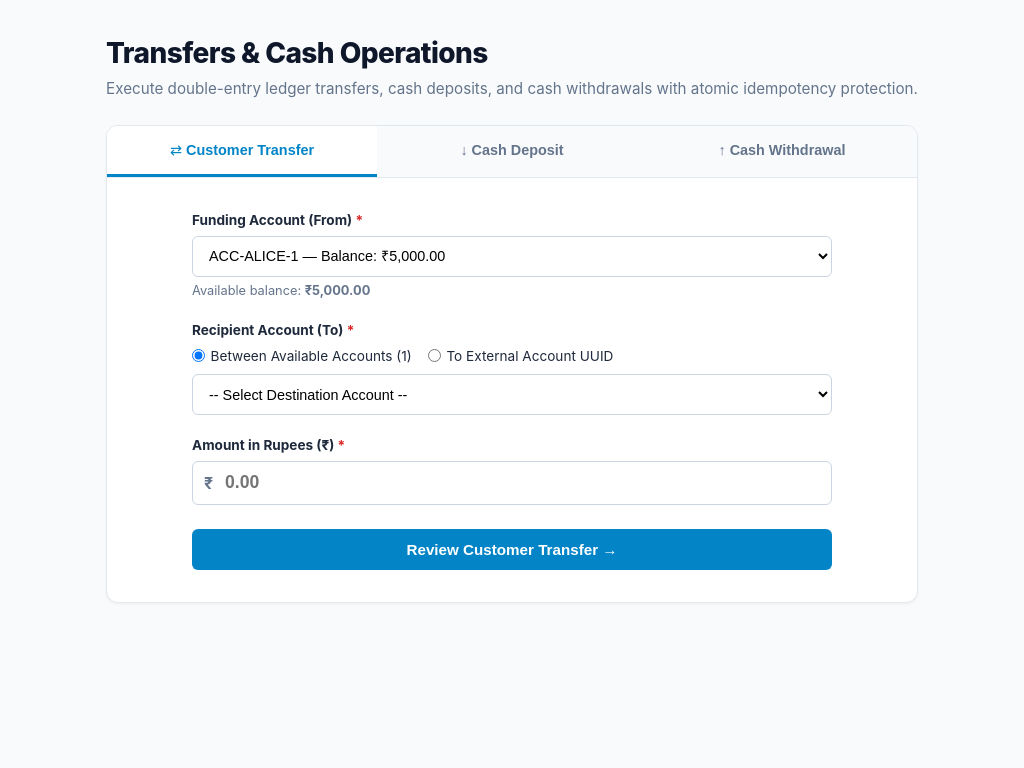
Test: TransfersPage Component Integration › executes a customer-to-customer transfer with confirmation and fresh idempotency key
This screenshot has width=1024, height=768.
Expected: the dropdown with test id "transfer-source-select" is shown, [192,236,832,277]
Select destination account
Select "ACC-ALICE-2 (Customer Account)" in the dropdown with test id "transfer-dest-select" at (512, 394), box [192,374,832,415]
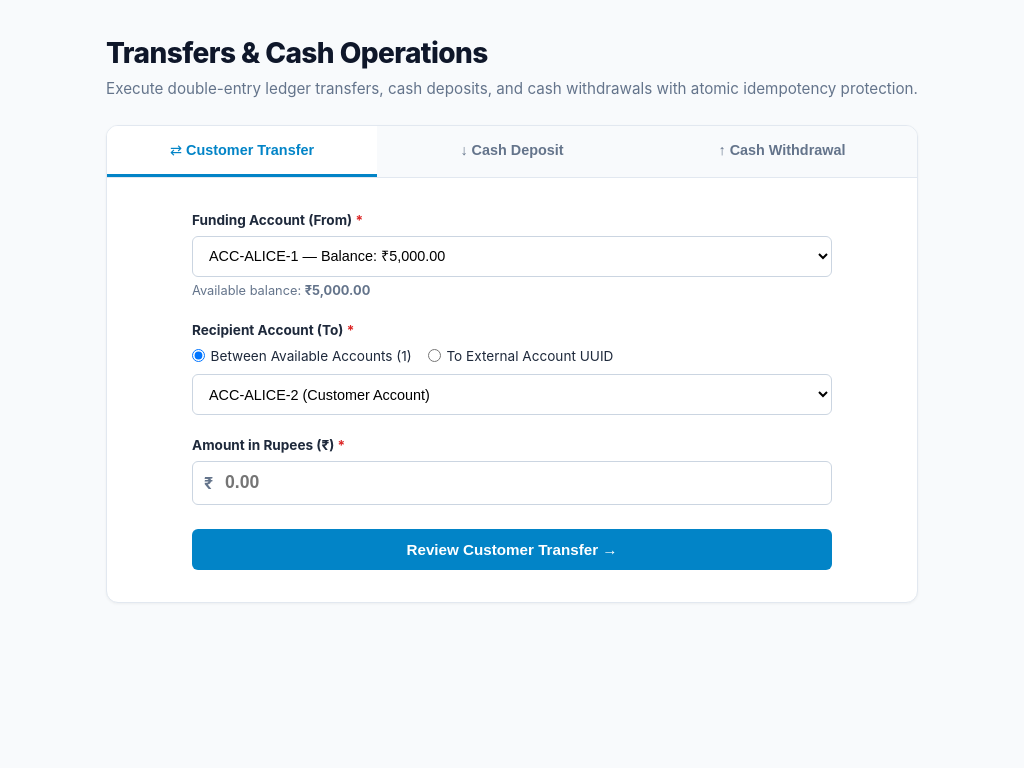
Enter Rupee amount: ₹1,000.00
Type "1000" into the field with test id "transfer-amount-input" at (512, 483), box [192,461,832,505]
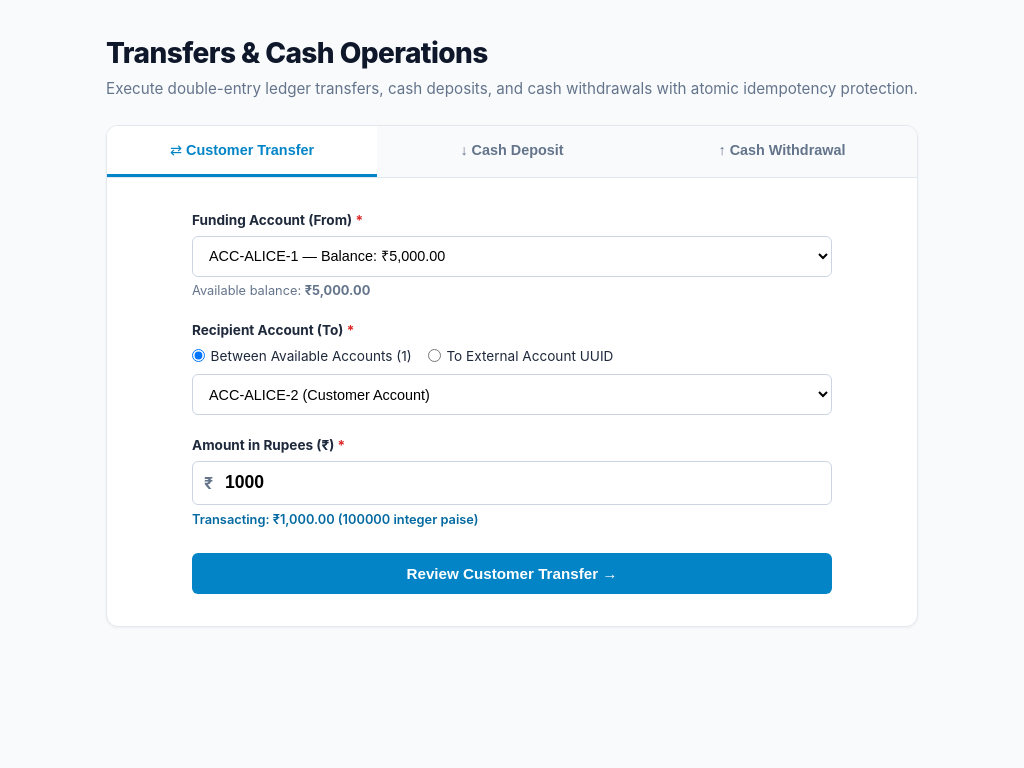
Click Review
Click the button with test id "transfer-submit-btn" at (512, 574), box [192,554,832,594]
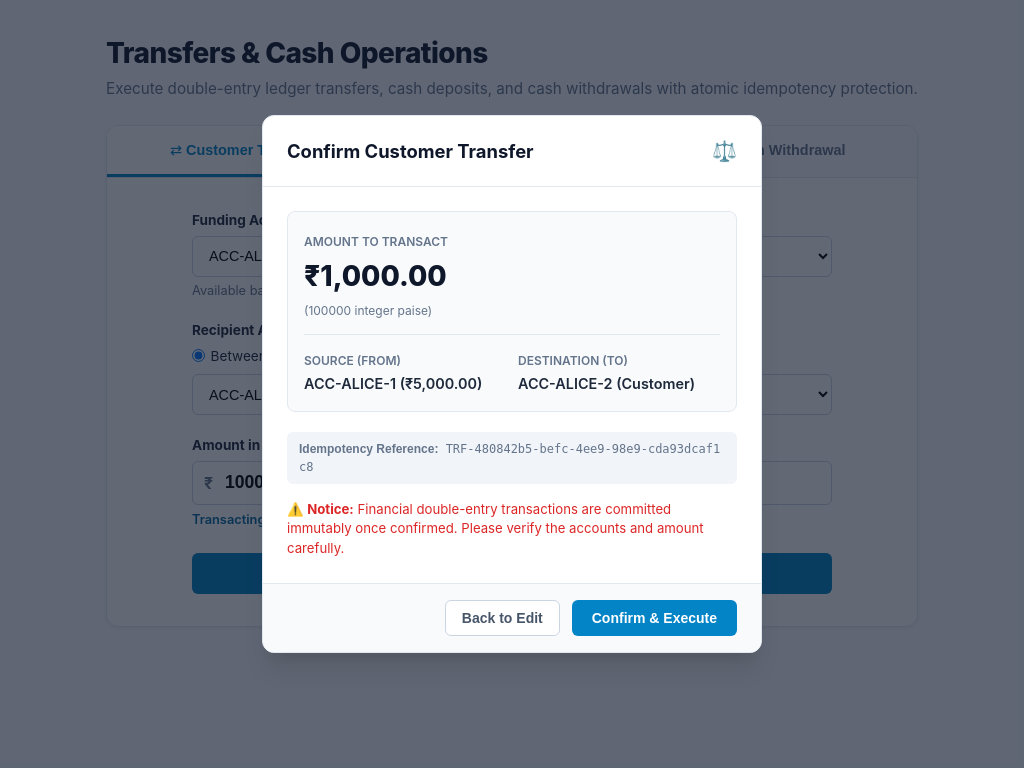
Now the heading "Confirm Customer Transfer" is shown, box [287,138,534,165]
Now the text "₹1,000.00" is shown, box [304,259,447,293]
Now the text "(100000 integer paise)" is shown, box [304,303,432,318]
Confirm in modal
Click the button with test id "modal-confirm-btn" at (654, 618), box [572,600,737,636]
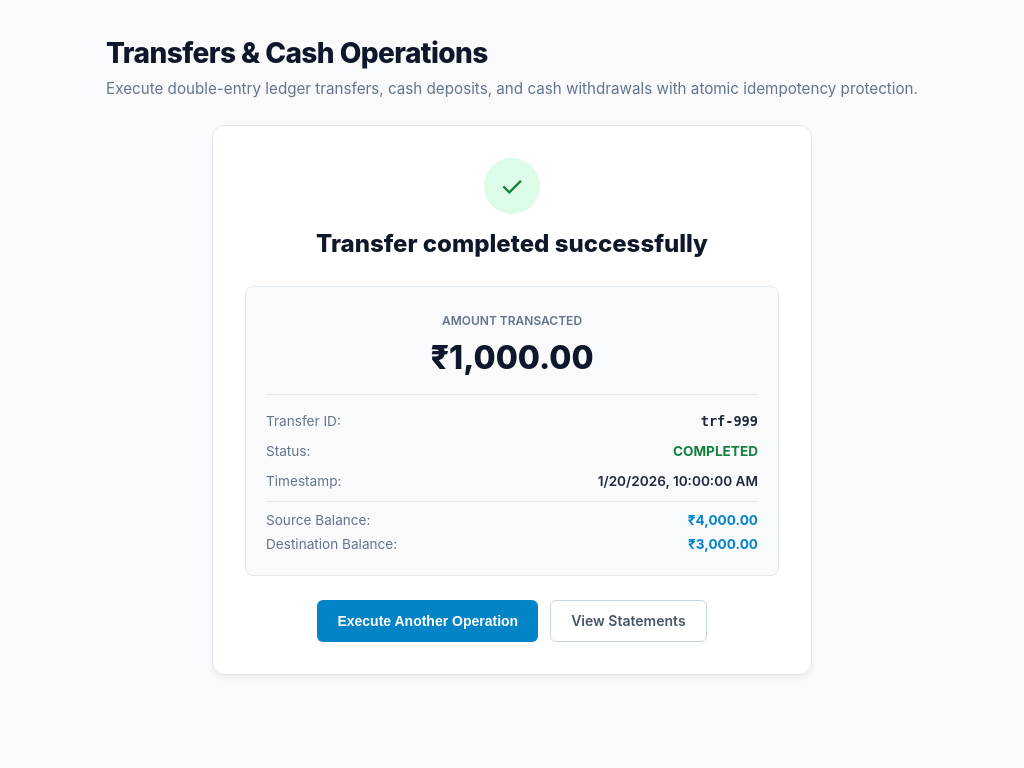
Now the element with test id "transaction-receipt" is shown, box [212,125,812,675]
